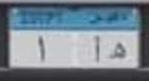1: (37, 30, 50, 64)
أ: (91, 34, 104, 61)
ه: (107, 40, 127, 61)
